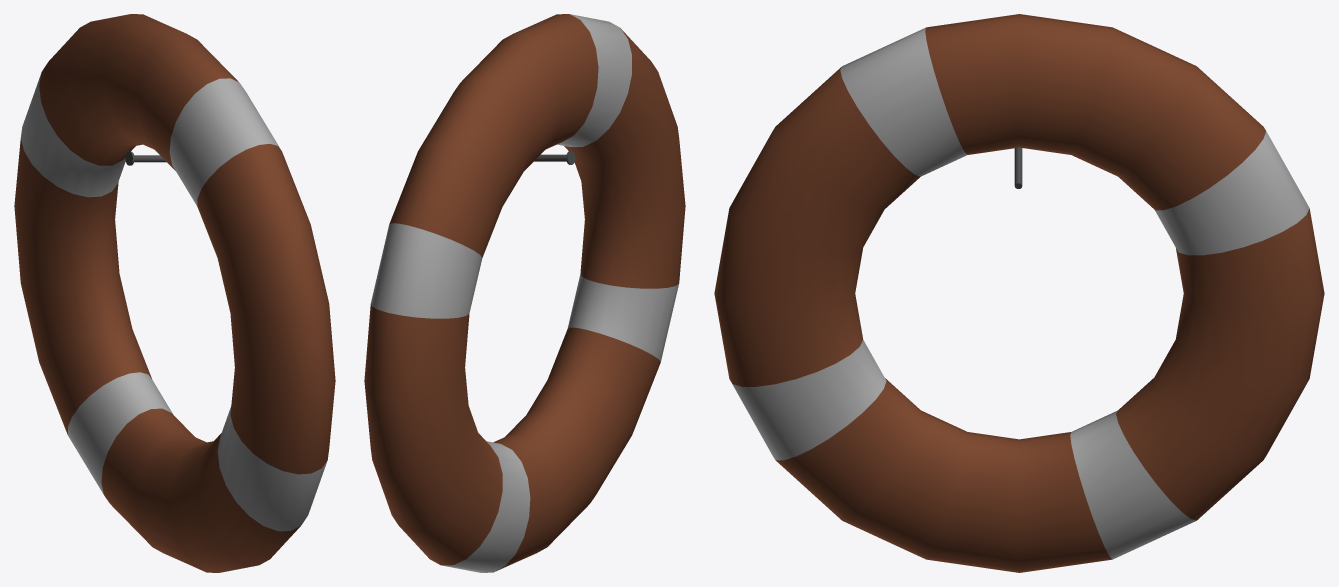
Rendered from LifeRing.fbx.
3 views of the same model, side by side, from view 1: azimuth 30°, elevation 25°; view 2: azimuth 150°, elevation 25°; view 3: azimuth 270°, elevation 25° (orthographic). The views are drawn at different scales.
Visible parts, largest first — view 1: pTorus2; view 2: pTorus2; view 3: pTorus2.
Boxes of the visible parts, x1,y1,x2,y2 form: pTorus2: (14, 14, 335, 572); pTorus2: (364, 14, 685, 572); pTorus2: (714, 14, 1324, 572).
Size of the model in its own units: 2.97 by 15.6 by 15.6.
